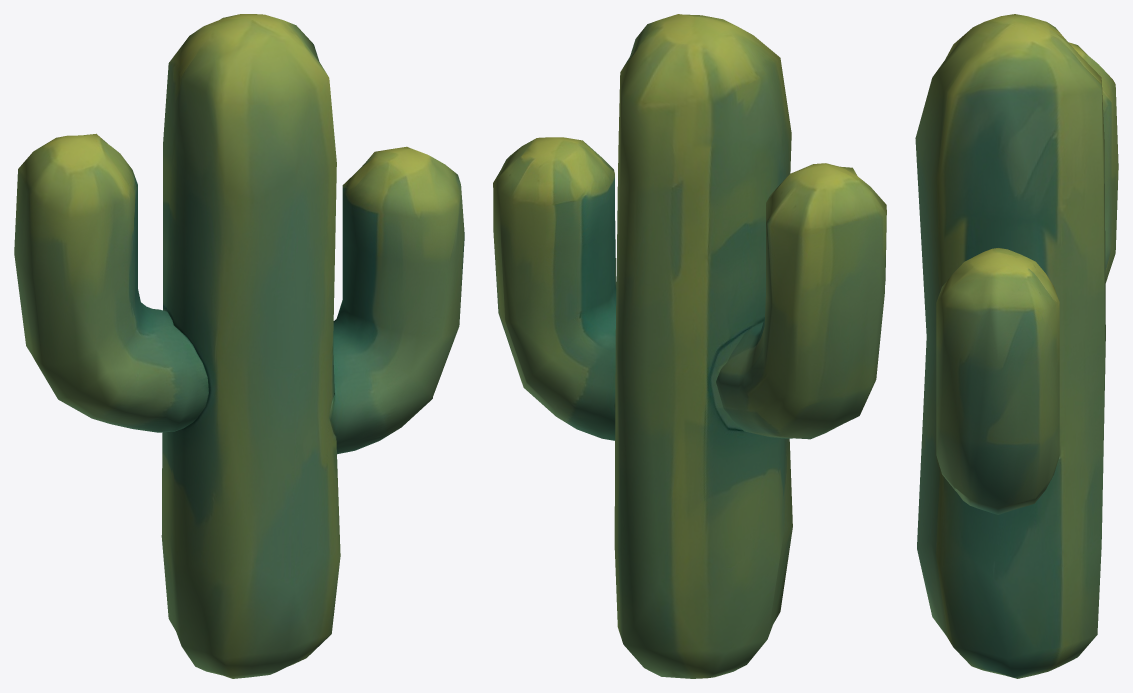
The model's file is cactus-tall.glb.
3 renders of one model, left to right at view 1: azimuth 30°, elevation 25°; view 2: azimuth 150°, elevation 25°; view 3: azimuth 270°, elevation 25°, orthographic.
Parts seen in each view (by area): view 1: tripo_node_6cef484f-0f65-42aa-8ba0-330c42a71484; view 2: tripo_node_6cef484f-0f65-42aa-8ba0-330c42a71484; view 3: tripo_node_6cef484f-0f65-42aa-8ba0-330c42a71484.
Part boxes in pixels (bbox=[...]): tripo_node_6cef484f-0f65-42aa-8ba0-330c42a71484: bbox=[14, 14, 464, 678]; tripo_node_6cef484f-0f65-42aa-8ba0-330c42a71484: bbox=[493, 14, 886, 678]; tripo_node_6cef484f-0f65-42aa-8ba0-330c42a71484: bbox=[915, 14, 1118, 678].
Bounding box in the file's own units: 1.62 × 2.5 × 0.7094.
1 material, 1 textured.
